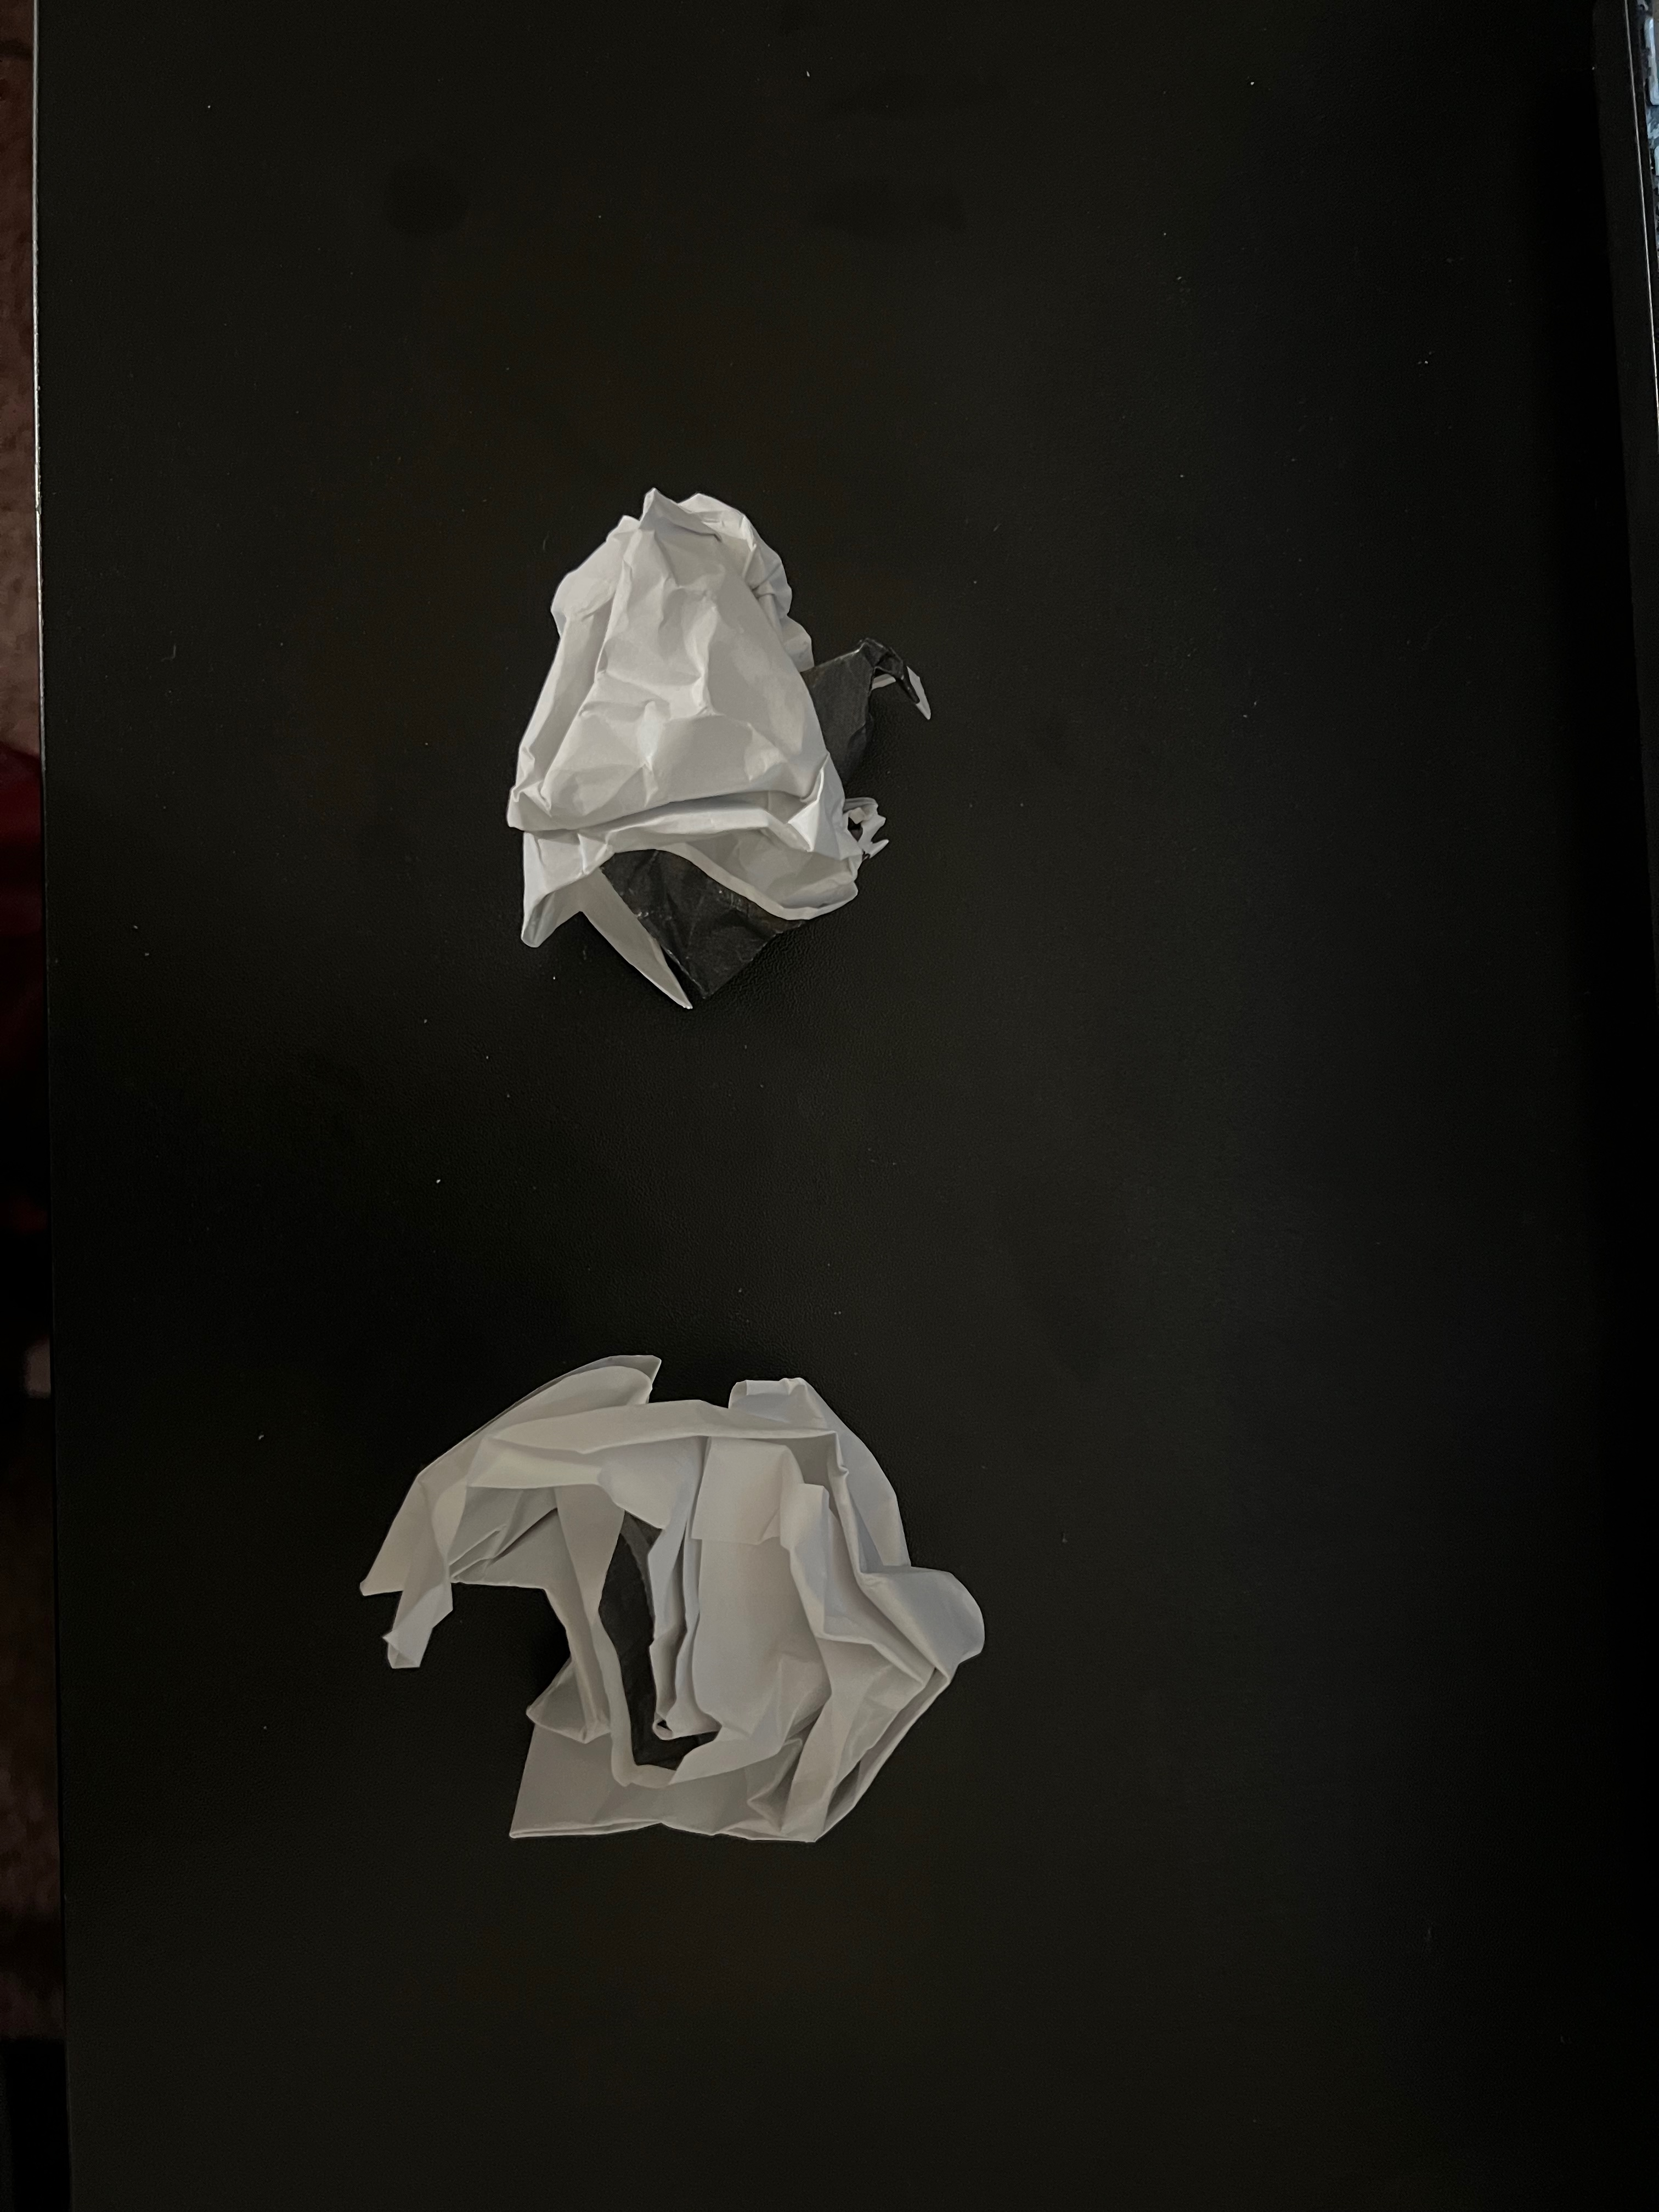trash paper: (322, 1284, 1040, 1888), (465, 463, 965, 1038)
